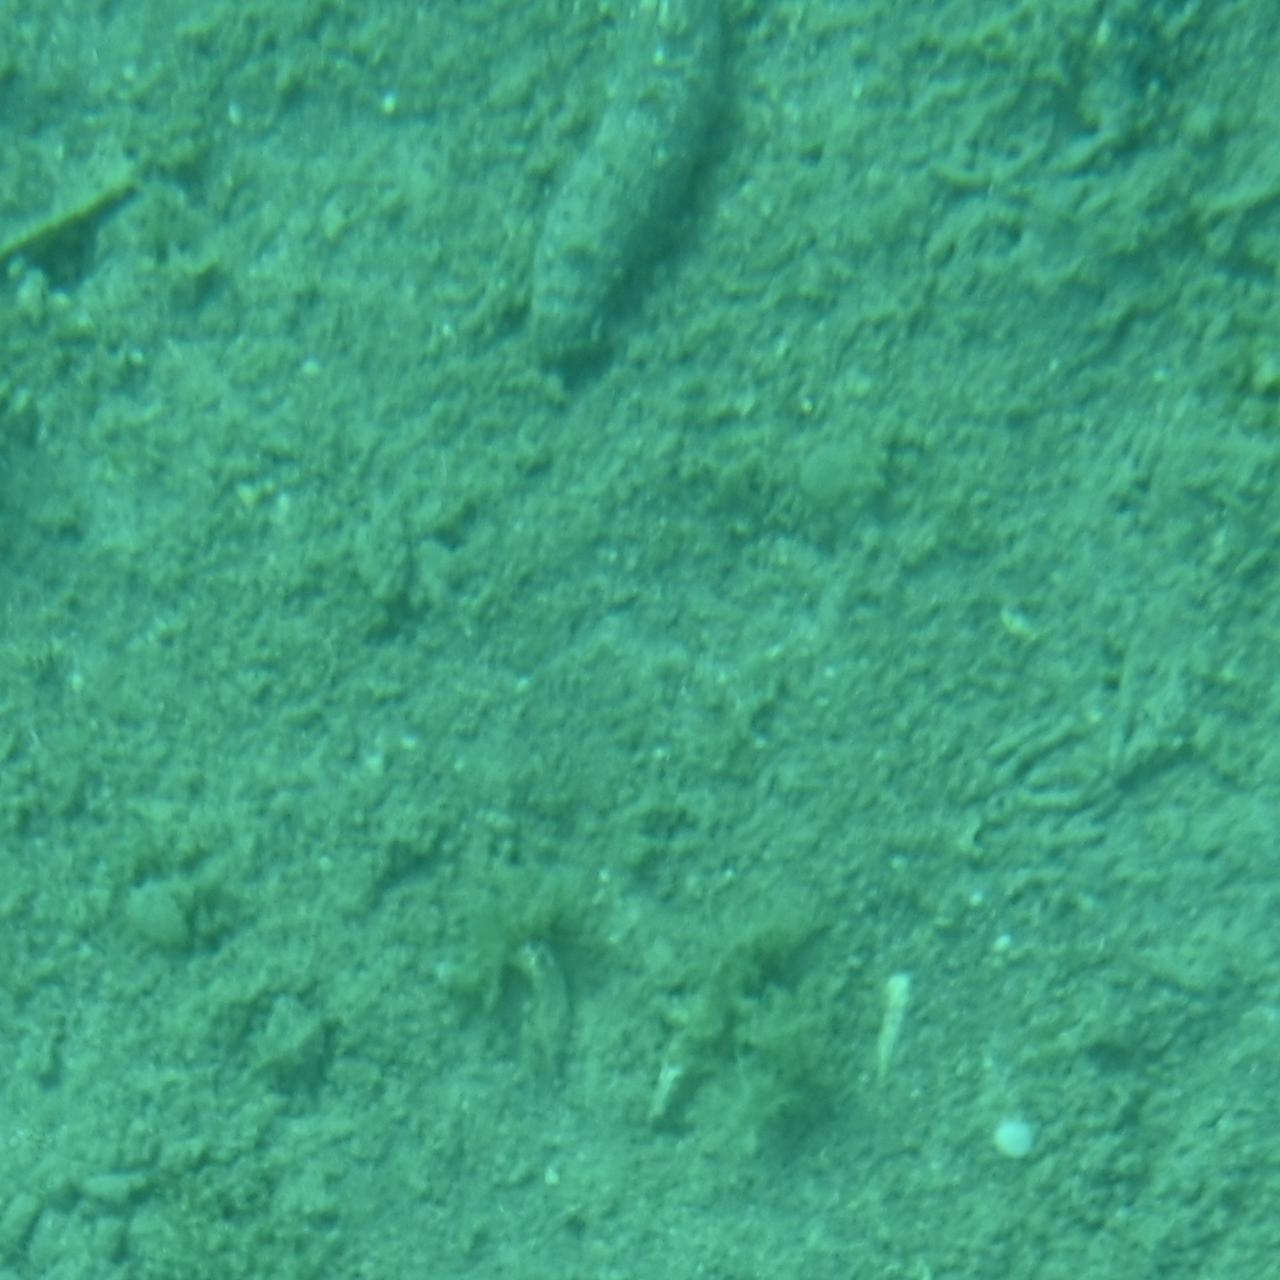Holothuria tubulosa: (517, 0, 763, 388)
